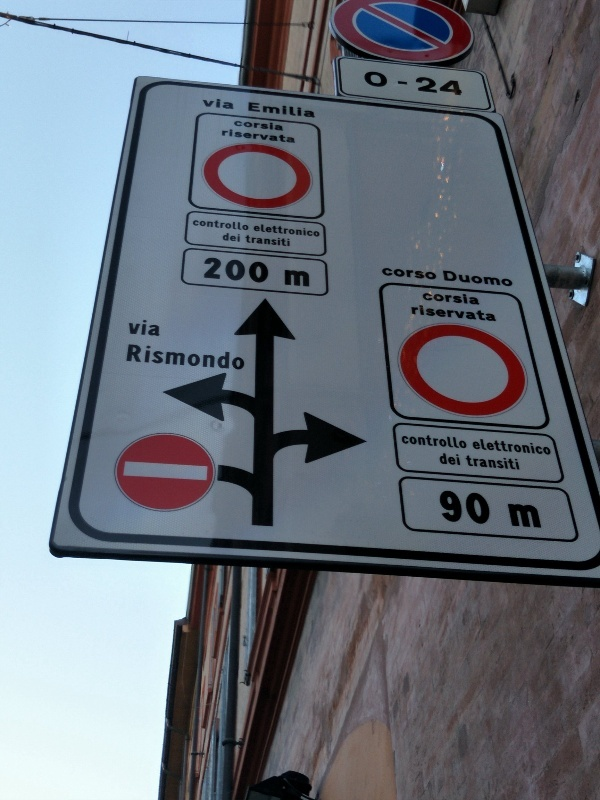text: (449, 490, 464, 527), (465, 490, 480, 527), (129, 343, 144, 374), (145, 343, 160, 374), (161, 343, 176, 374), (177, 343, 192, 374), (193, 343, 208, 374), (209, 343, 224, 374), (225, 343, 240, 374), (481, 490, 493, 527), (209, 257, 224, 285), (225, 257, 240, 285), (241, 257, 256, 285), (513, 505, 528, 529), (257, 257, 269, 285), (439, 490, 448, 527), (417, 77, 432, 98), (433, 77, 448, 98), (529, 505, 542, 529), (481, 305, 497, 324), (257, 101, 272, 121), (273, 101, 288, 121), (289, 101, 304, 121), (449, 77, 463, 98), (145, 319, 161, 337), (417, 305, 432, 324), (433, 305, 448, 324), (449, 305, 464, 324), (465, 305, 480, 324), (449, 270, 464, 289), (465, 270, 480, 289), (481, 270, 496, 289), (497, 270, 512, 289), (129, 319, 144, 337), (289, 270, 304, 288), (369, 71, 384, 89), (465, 455, 480, 472), (481, 455, 496, 472), (497, 455, 512, 472), (481, 440, 496, 456), (497, 440, 512, 456), (513, 440, 528, 456), (529, 440, 544, 456), (417, 436, 432, 451), (433, 436, 448, 451), (449, 436, 464, 451), (385, 267, 400, 282), (401, 267, 416, 282), (417, 267, 432, 282), (225, 129, 240, 144), (241, 129, 256, 144), (257, 129, 272, 144), (273, 129, 288, 144), (305, 224, 321, 238), (305, 101, 316, 121), (402, 436, 416, 451), (209, 98, 224, 112), (193, 219, 208, 233), (209, 219, 224, 233), (225, 219, 240, 233), (257, 224, 272, 238), (273, 224, 288, 238), (289, 224, 304, 238), (465, 293, 481, 306), (449, 453, 462, 468), (433, 293, 448, 306), (449, 293, 464, 306), (257, 235, 272, 248), (273, 235, 288, 248), (225, 232, 241, 243), (241, 121, 256, 132), (257, 121, 272, 132), (248, 101, 256, 121), (513, 455, 522, 472), (225, 98, 235, 112), (439, 453, 448, 468), (422, 293, 432, 306), (246, 235, 256, 248), (472, 440, 480, 456), (241, 343, 245, 374), (273, 121, 284, 132), (545, 440, 552, 456), (241, 219, 249, 233), (305, 270, 311, 288), (289, 129, 296, 144), (508, 505, 512, 529), (411, 305, 416, 324), (443, 270, 448, 289), (205, 257, 208, 285), (364, 71, 368, 89), (385, 71, 389, 89), (203, 98, 208, 112), (234, 121, 240, 132), (433, 267, 437, 282), (285, 270, 288, 288), (465, 436, 468, 451), (381, 267, 384, 282), (221, 129, 224, 144), (513, 270, 515, 289), (401, 81, 408, 86), (254, 224, 256, 238), (415, 77, 416, 98), (397, 81, 400, 86), (289, 235, 290, 248), (223, 232, 224, 243)
